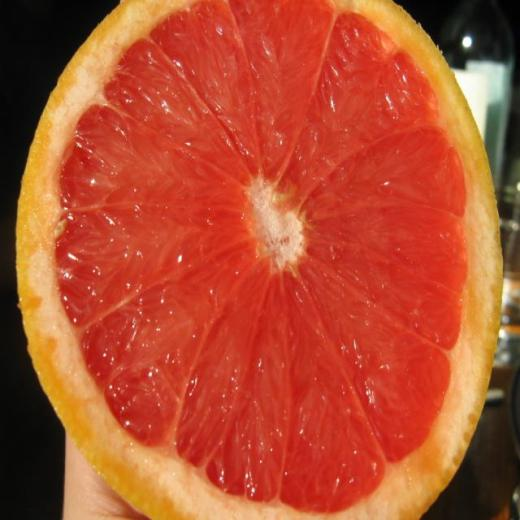Grape: (25, 14, 485, 508)
